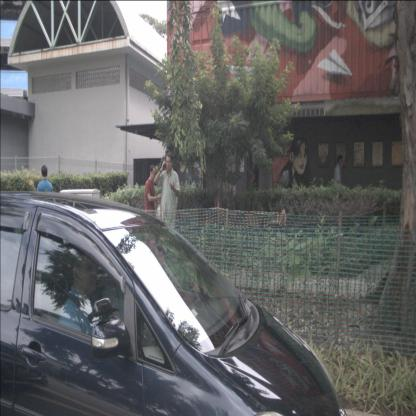human-pedestrian-adult: (154, 152, 180, 264), (36, 165, 53, 255), (145, 164, 161, 246), (333, 154, 345, 216), (248, 153, 260, 214)
vehicle-car: (1, 190, 347, 416)
